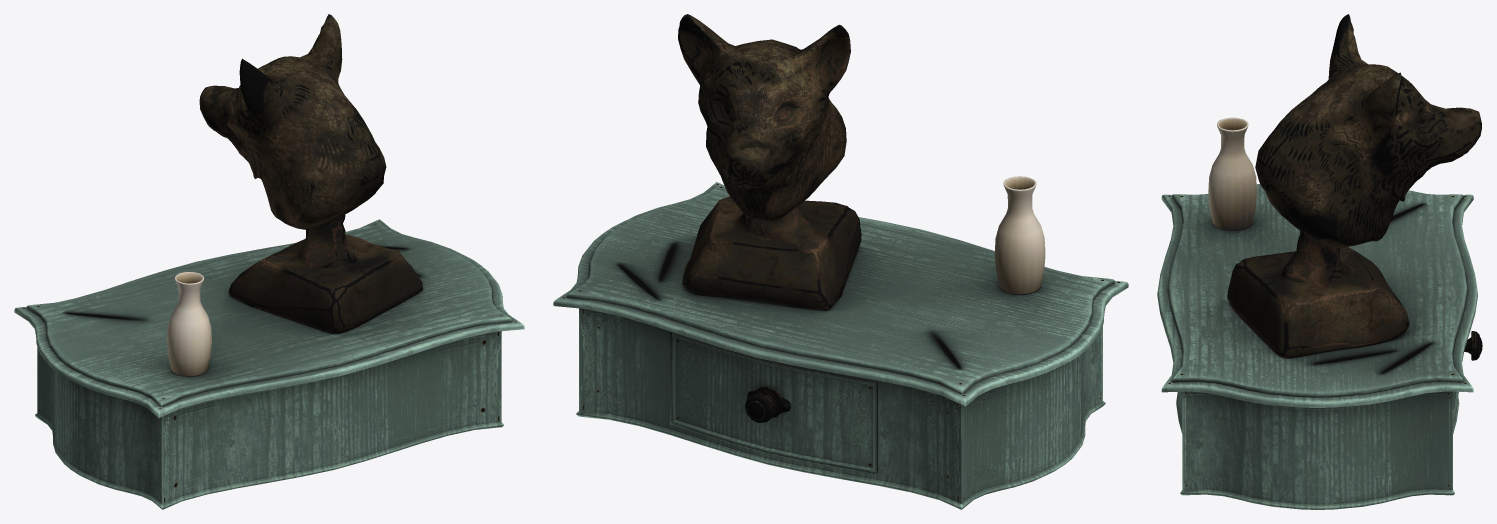
Rendered from wolf_head_desk.glb.
3 renders of one model, left to right at view 1: azimuth 30°, elevation 25°; view 2: azimuth 150°, elevation 25°; view 3: azimuth 270°, elevation 25°, orthographic. The views are drawn at different scales.
Visible parts, largest first — view 1: Object_5, Object_4, Object_6; view 2: Object_5, Object_4, Object_6; view 3: Object_5, Object_4, Object_6.
Part boxes in pixels (bbox=[...]): Object_5: bbox=[14, 219, 524, 504]; Object_4: bbox=[199, 14, 422, 333]; Object_6: bbox=[35, 347, 503, 509]; Object_5: bbox=[553, 176, 1128, 503]; Object_4: bbox=[678, 14, 861, 309]; Object_6: bbox=[576, 326, 1105, 509]; Object_5: bbox=[1157, 117, 1479, 421]; Object_4: bbox=[1227, 14, 1481, 357]; Object_6: bbox=[1176, 336, 1482, 509].
Size of the model in its own units: 0.9693 by 0.7804 by 0.5966.
Materials: 2 (2 with a texture image).
